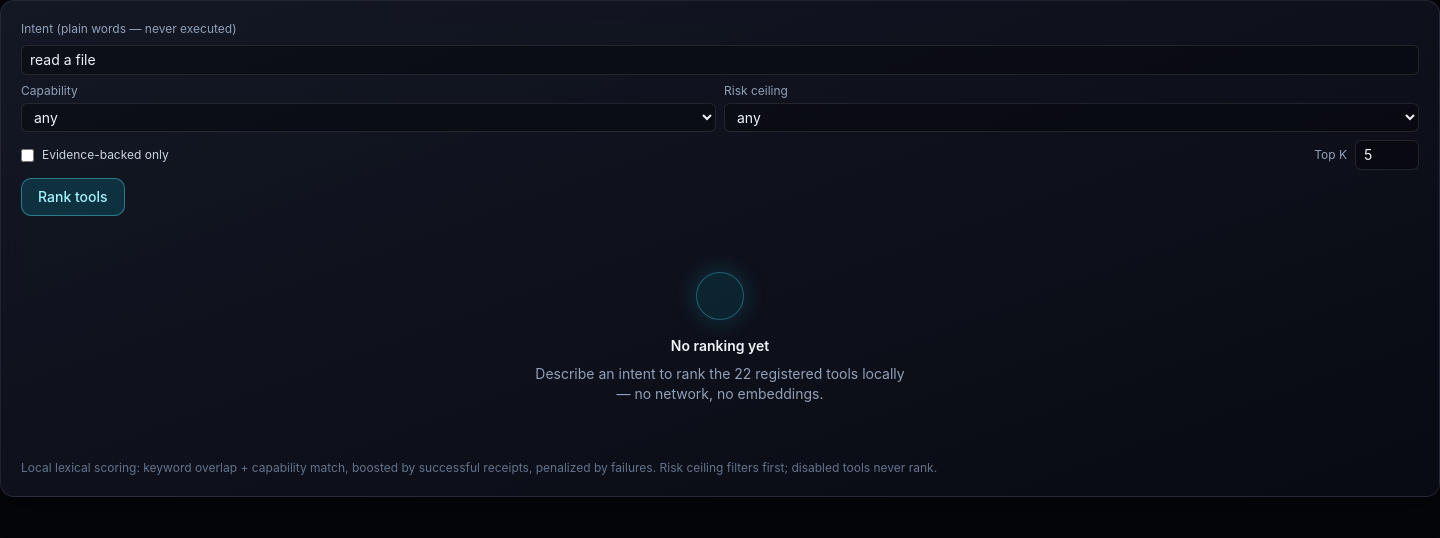
ToolRagPanel › shows a backend hint when the query fails
Click the button "Rank tools". click: (73,197)
box: [21,178,124,216]
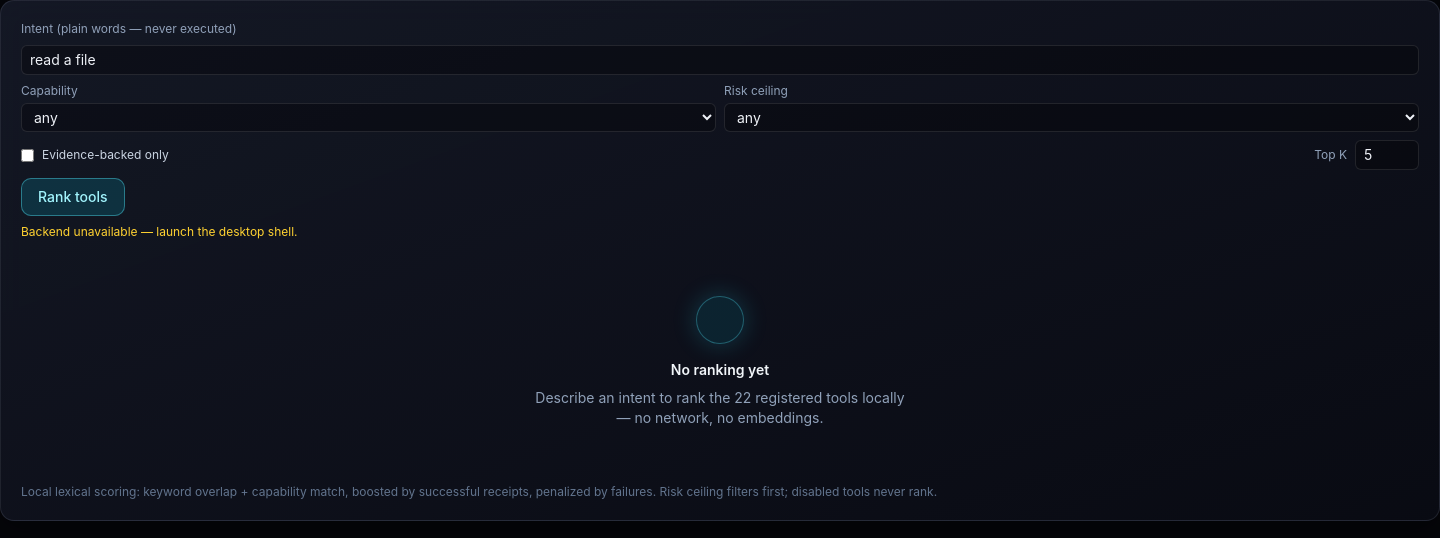
Result: the text "Backend unavailable — launch the desktop shell." is shown at [21,224,298,239]
